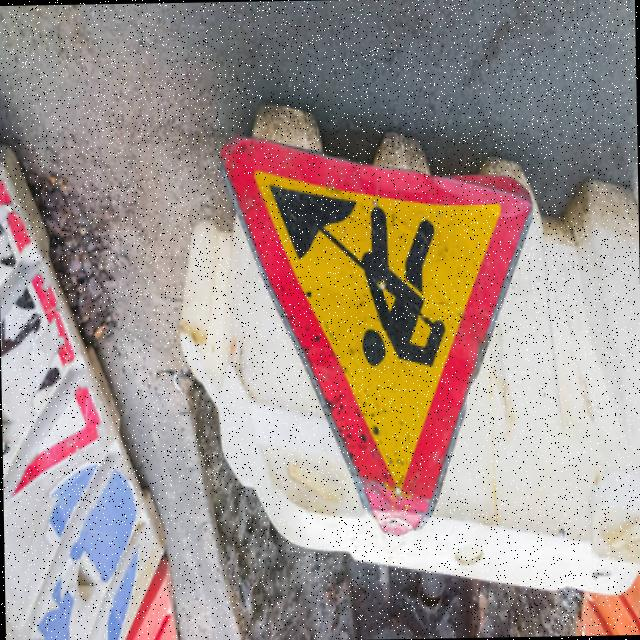road_work: (207, 135, 548, 539)
